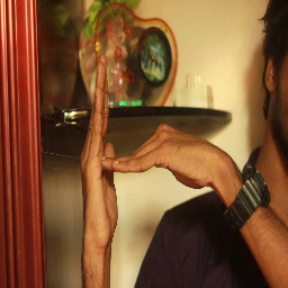Z: (75, 51, 213, 249)
